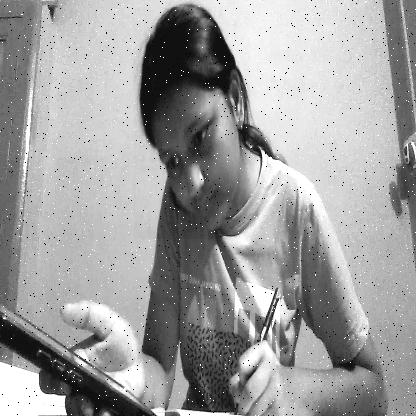Distracted: (134, 7, 250, 240)
